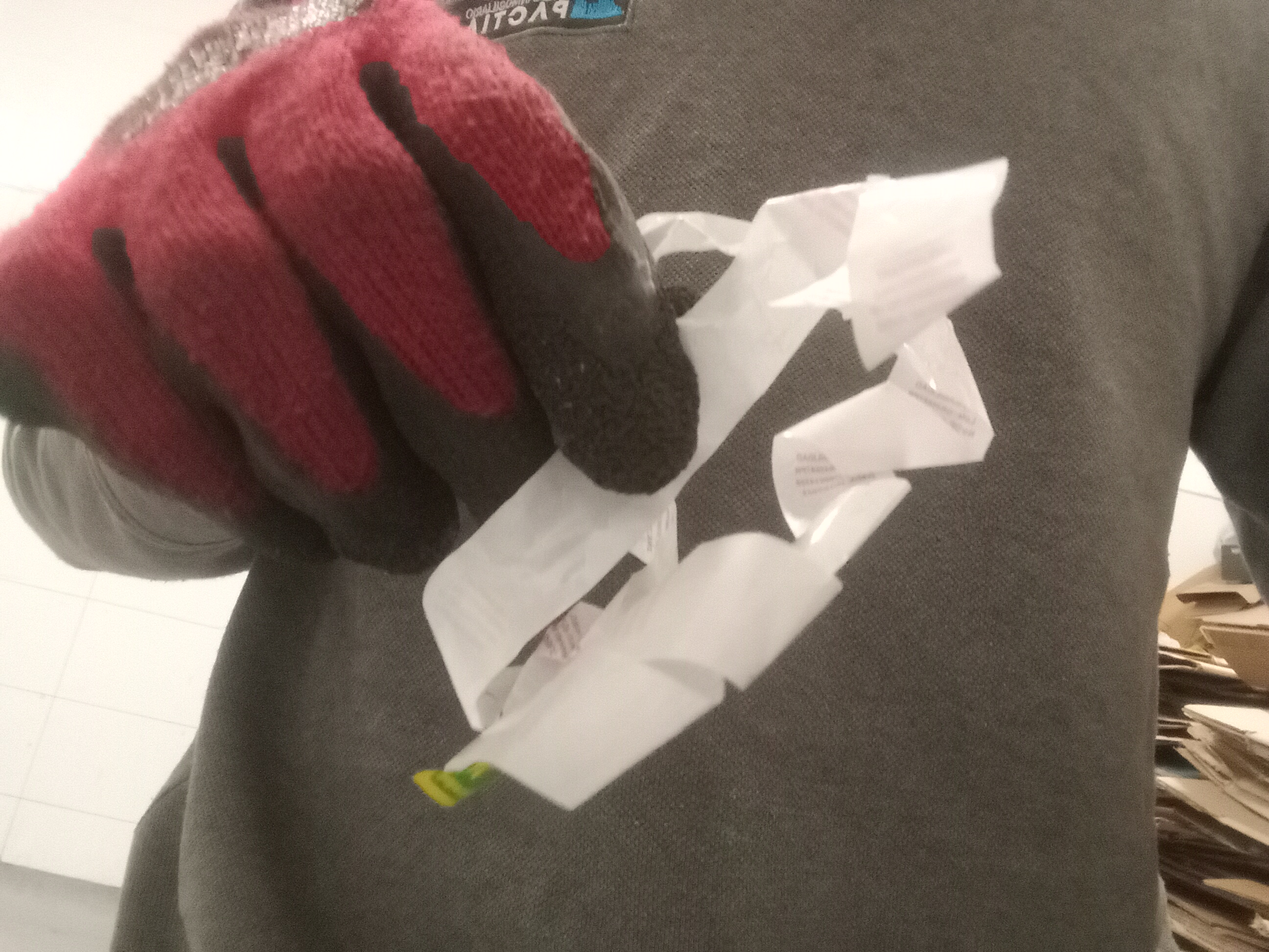Ordinario: (411, 158, 1013, 814)
